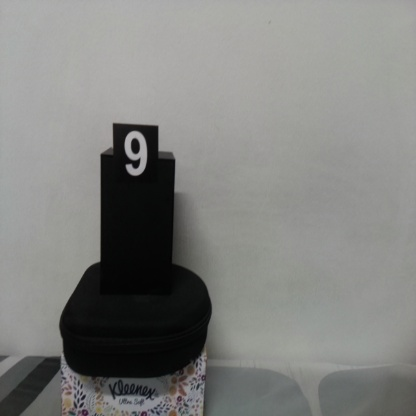id_9: (113, 124, 159, 206)
